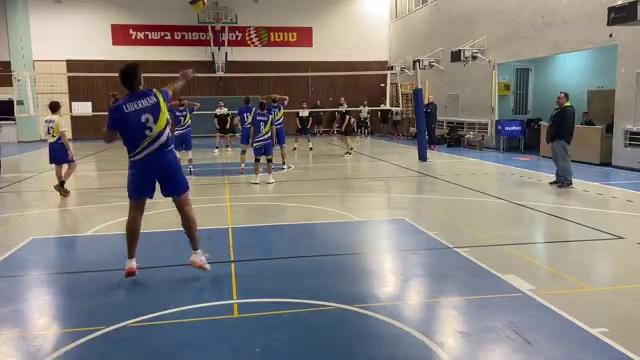ball: (186, 0, 210, 12)
